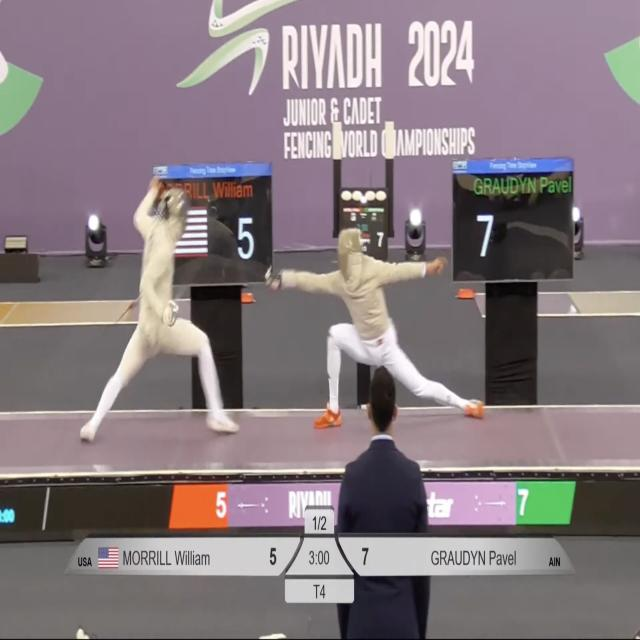fencer: (275, 216, 501, 429), (78, 154, 238, 442)
overlayLeft: (64, 531, 252, 578)
overlayRight: (385, 534, 576, 576)
scoreLeft: (256, 538, 304, 577)
scoreRight: (332, 536, 381, 575)
